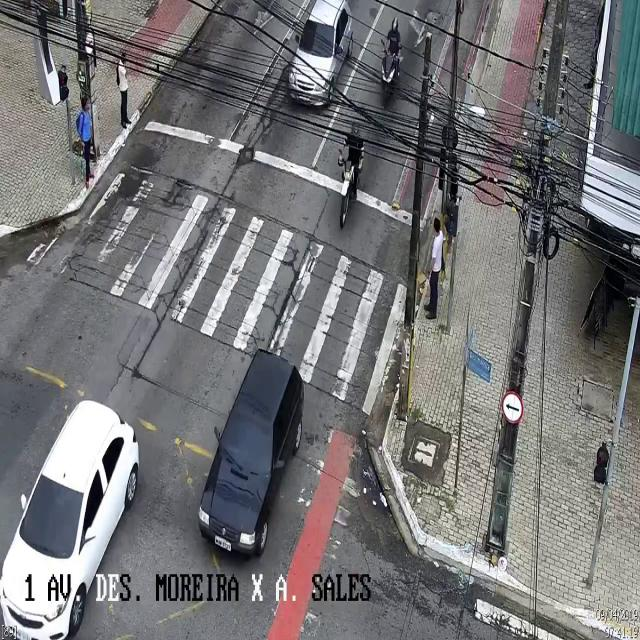Car: (0, 397, 140, 639), (198, 350, 302, 558), (288, 1, 352, 106)
Motorcycle: (336, 122, 364, 228), (380, 16, 402, 103)
